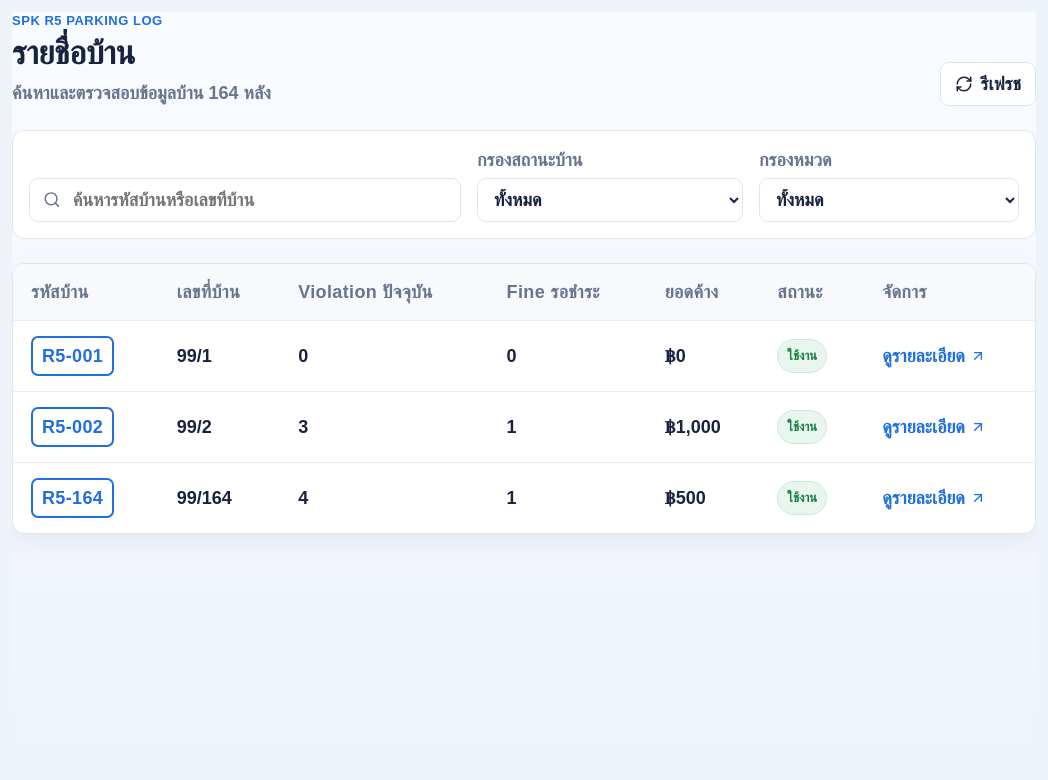
Scenario: HouseListPage › searches and filters houses through directory UI state
Expected: the text "R5-164" is shown, [31,478,114,518]
Type "164" into the search field named "ค้นหาบ้าน". click: (259, 200)
box: [71,186,447,214]
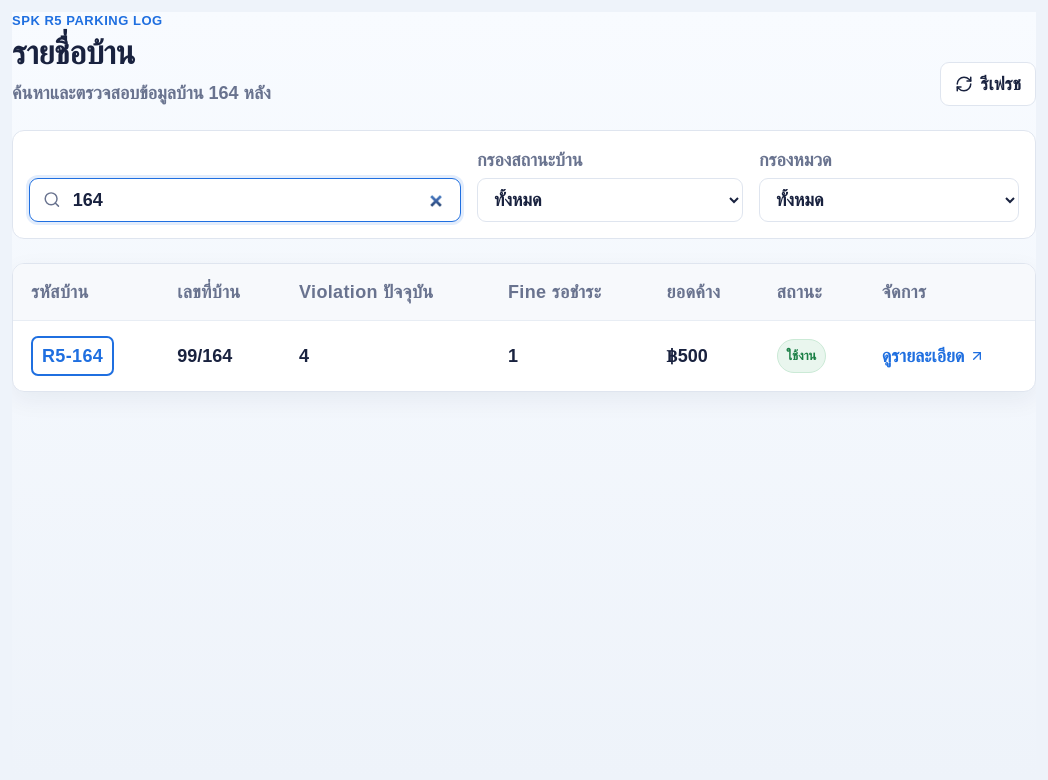
Expected: the text "R5-164" is shown, [31,336,114,376]
Expected: the text "R5-001" is gone
Clear the search field named "ค้นหาบ้าน". click: (259, 200)
box: [71,186,447,214]
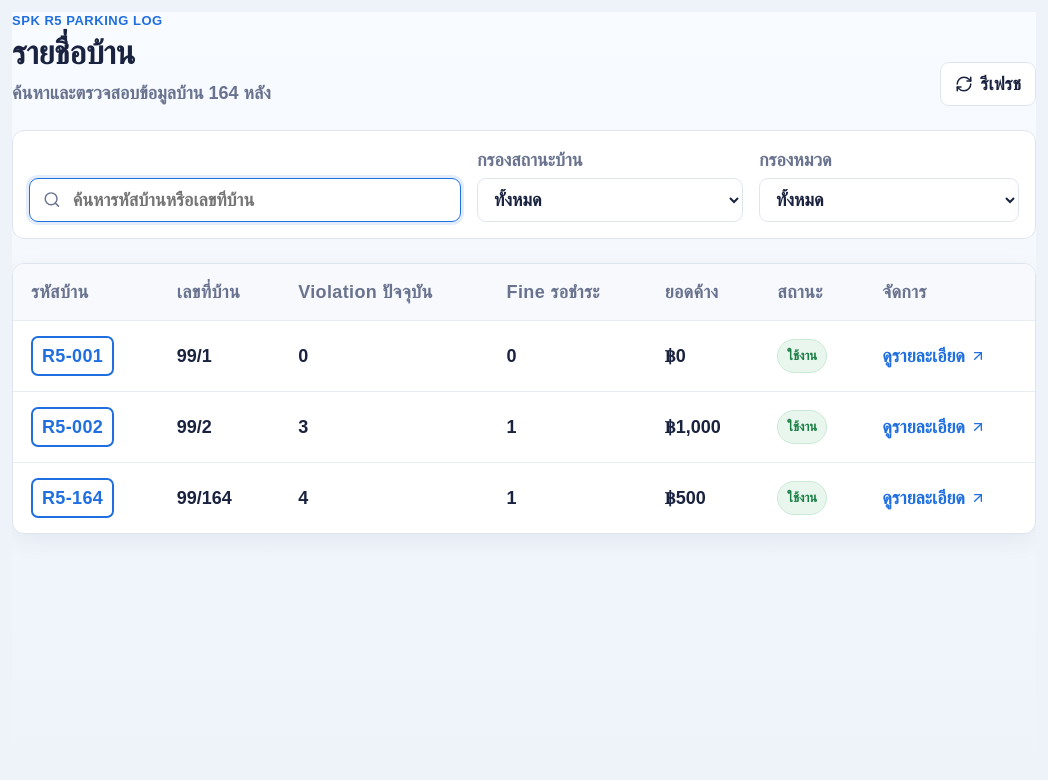
Select "มี Fine รอชำระ" in the dropdown labelled "กรองสถานะบ้าน". click: (610, 200)
box: [477,178,743,222]
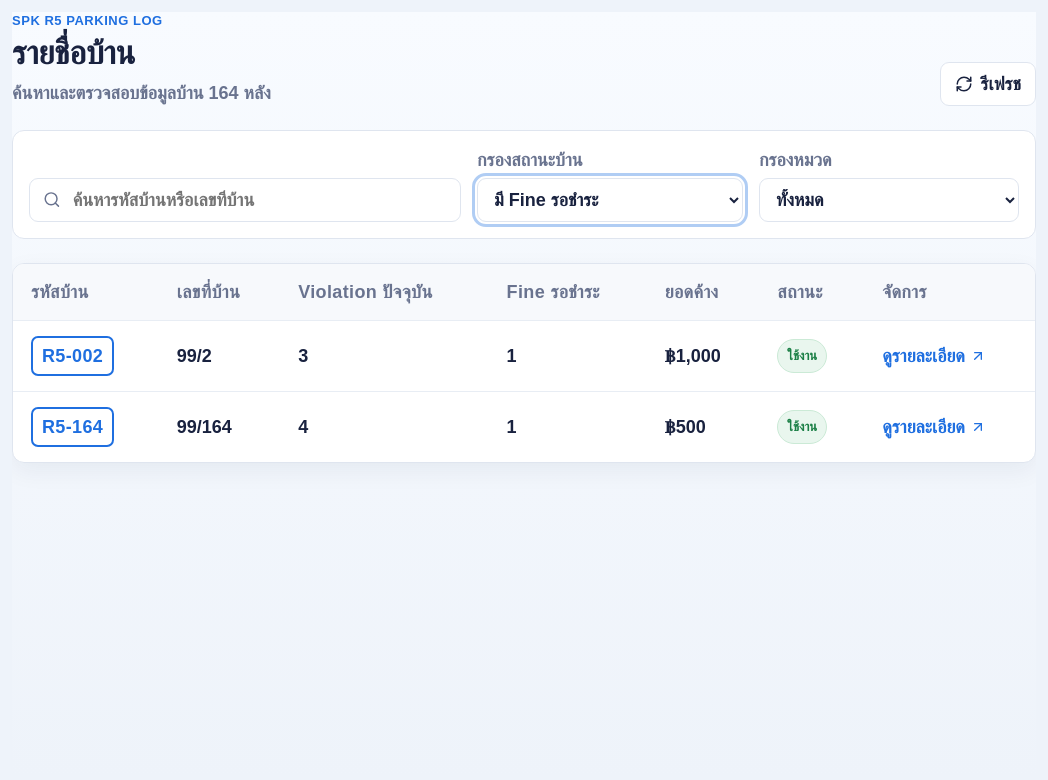
Expected: the text "R5-164" is shown, [31,407,114,447]
Expected: the text "R5-002" is shown, [31,336,114,376]
Expected: the text "R5-001" is gone
Select "สัตว์เลี้ยงขับถ่าย" in the dropdown labelled "กรองหมวด". click: (889, 200)
box: [759,178,1019,222]
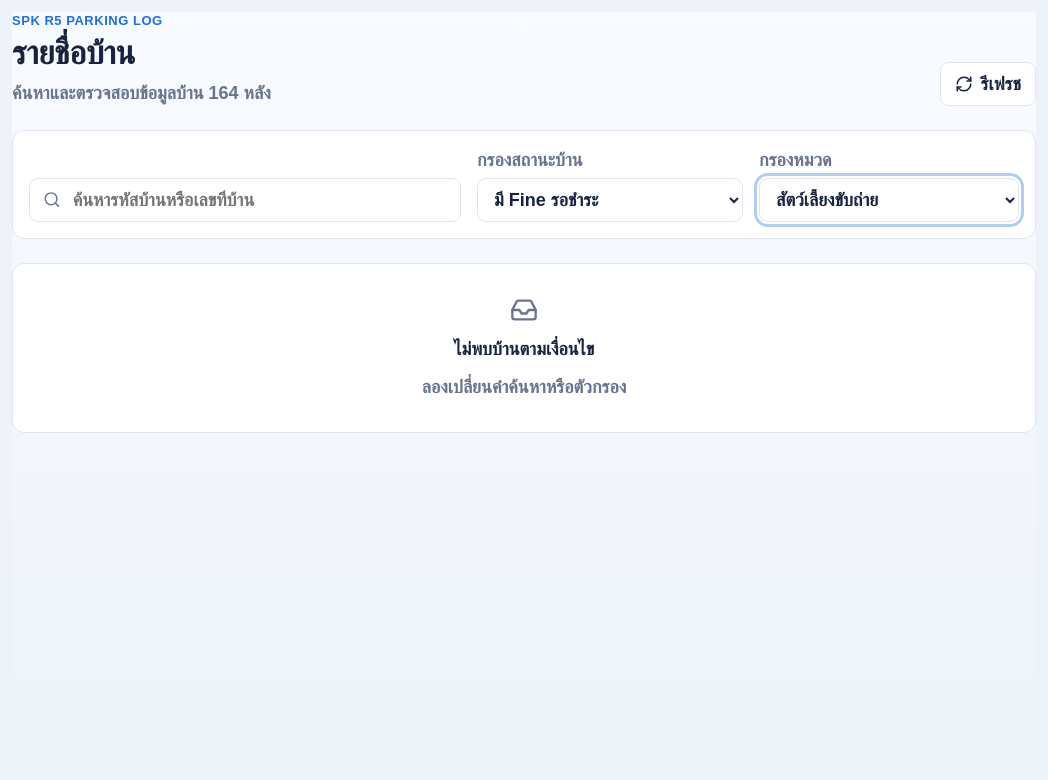
Expected: the text "R5-002" is gone
Expected: the heading "ไม่พบบ้านตามเงื่อนไข" is shown, [454,336,594,362]
